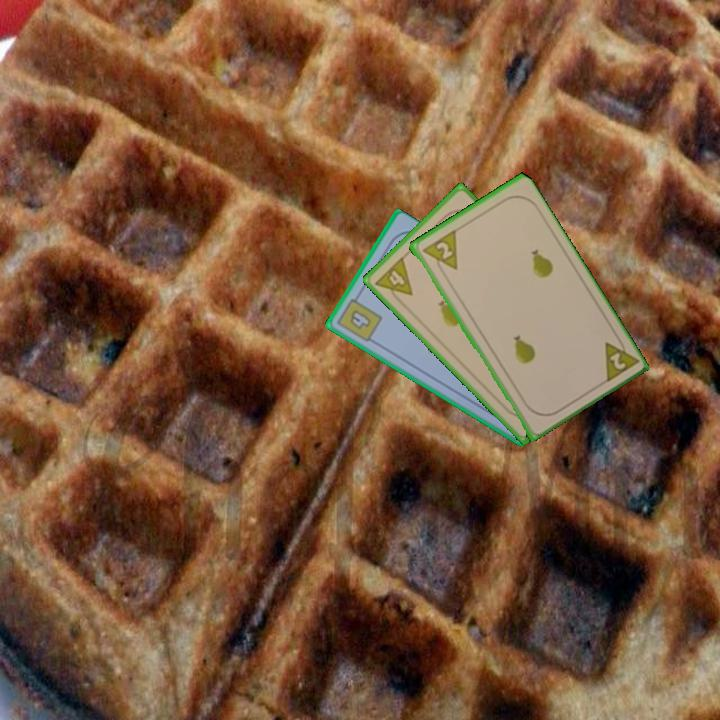2p: (600, 331, 640, 386), (418, 227, 460, 278)
4b: (333, 290, 385, 345)
4p: (371, 253, 415, 308)
